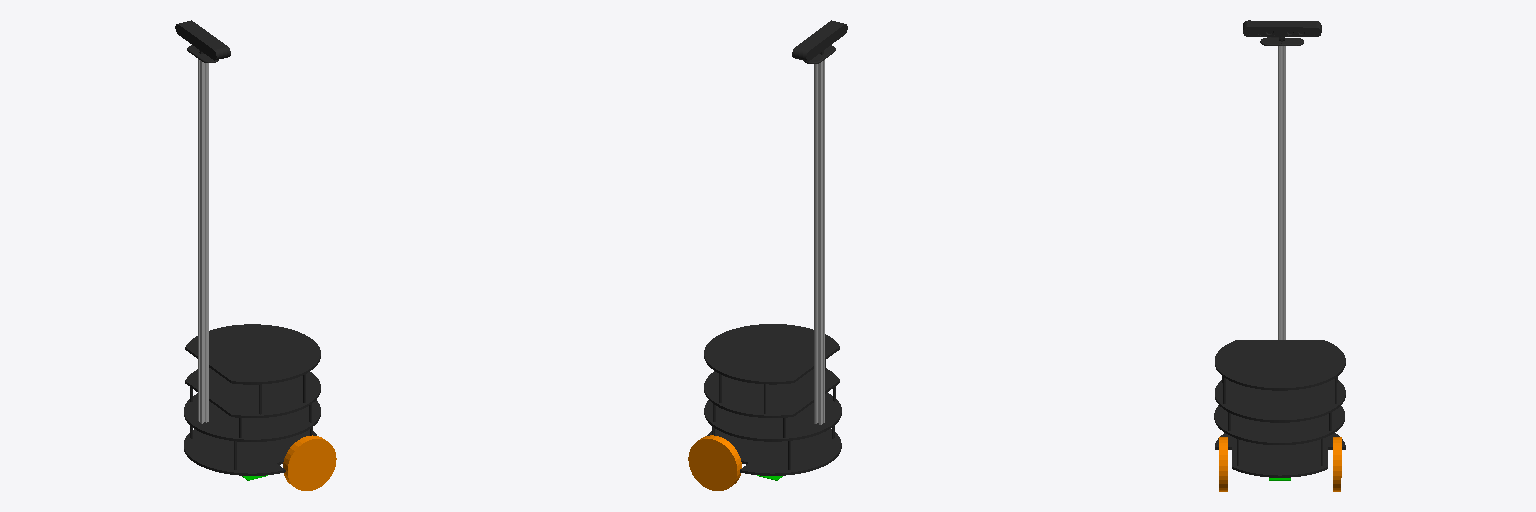
URDF robot description (pi_robot):
<?xml version="1.0" ?>
<!-- =================================================================================== -->
<!-- |    This document was autogenerated by xacro from pi_robot_with_xtion.xacro      | -->
<!-- |    EDITING THIS FILE BY HAND IS NOT RECOMMENDED                                 | -->
<!-- =================================================================================== -->
<robot name="pi_robot">
  <!-- Define a number of dimensions using properties -->
  <!-- The following include files set up definitions of parts of the robot body -->
  <material name="Black">
    <color rgba="0.2 0.2 0.2 1.0"/>
  </material>
  <material name="TransparentBlack">
    <color rgba="0.2 0.2 0.2 0.8"/>
  </material>
  <material name="Orange">
    <color rgba="1.0  0.55 0.0 1.0"/>
  </material>
  <material name="Grey">
    <color rgba="0.7 0.7 0.7 1.0"/>
  </material>
  <material name="Red">
    <color rgba="0.8 0.0 0.0 1.0"/>
  </material>
  <material name="White">
    <color rgba="1.0 1.0 1.0 1.0"/>
  </material>
  <material name="OffWhite">
    <color rgba="0.8 0.8 0.8 1.0"/>
  </material>
  <material name="Blue">
    <color rgba="0.0 0.0 0.8 1.0"/>
  </material>
  <material name="Green">
    <color rgba="0.0 0.8 0.0 1.0"/>
  </material>
  <material name="TransparentGreen">
    <color rgba="0.0 0.8 0.0 0.5"/>
  </material>
  <link name="base_footprint">
    <visual>
      <origin rpy="0 0 0" xyz="0 0 0"/>
      <geometry>
        <box size="0.05 0.05 0.001"/>
      </geometry>
      <material name="TransparentGreen"/>
    </visual>
  </link>
  <joint name="base_joint" type="fixed">
    <origin rpy="0 0 0" xyz="0 0 0.06541"/>
    <parent link="base_footprint"/>
    <child link="base_link"/>
  </joint>
  <joint name="base_l_wheel_joint" type="continuous">
    <axis xyz="0 0 1"/>
    <limit effort="100" velocity="100"/>
    <safety_controller k_velocity="10"/>
    <origin rpy="1.57 0 0" xyz="0.07 0.13 -0.0035"/>
    <parent link="base_link"/>
    <child link="base_l_wheel_link"/>
  </joint>
  <link name="base_l_wheel_link">
    <visual>
      <origin rpy="0 0 0" xyz="0 0 0"/>
      <geometry>
        <cylinder length="0.02032" radius="0.06191"/>
      </geometry>
      <material name="Orange"/>
    </visual>
  </link>
  <joint name="base_r_wheel_joint" type="continuous">
    <axis xyz="0 0 1"/>
    <limit effort="100" velocity="100"/>
    <safety_controller k_velocity="10"/>
    <origin rpy="-1.57 0 0" xyz="0.07 -0.13 -0.0035"/>
    <parent link="base_link"/>
    <child link="base_r_wheel_link"/>
  </joint>
  <link name="base_r_wheel_link">
    <visual>
      <origin rpy="0 0 0" xyz="0 0 0"/>
      <geometry>
        <cylinder length="0.02032" radius="0.06191"/>
      </geometry>
      <material name="Orange"/>
    </visual>
  </link>
  <!-- Now we can start using the macros included above to define the actual robot -->
  <!-- Start with the base and wheels -->
  <link name="base_link">
    <visual>
      <origin rpy="0 0 1.57075" xyz="0 0 0"/>
      <geometry>
        <mesh filename="package://rbx2_urdf_templates/meshes/pi_robot/pi_robot_base.stl" scale="0.0254 0.0254 0.0254"/>
      </geometry>
      <material name="Black"/>
    </visual>
    <collision>
      <origin rpy="0 0 0" xyz="0 0 0.1205"/>
      <geometry>
        <cylinder length="0.241" radius="0.152"/>
      </geometry>
    </collision>
  </link>
  <!-- Add the torso -->
  <joint name="base_torso_joint" type="fixed">
    <origin rpy="0 0 0" xyz="-0.13 0.0 0.088"/>
    <parent link="base_link"/>
    <child link="torso_link"/>
  </joint>
  <link name="torso_link">
    <visual>
      <origin rpy="0 0 0" xyz="0 0 0"/>
      <geometry>
        <mesh filename="package://rbx2_urdf_templates/meshes/pi_robot/t_slot.stl" scale="0.0127 0.0127 0.0127"/>
      </geometry>
      <material name="Grey"/>
    </visual>
    <collision>
      <origin rpy="0 0 0" xyz="0 0 0.4425"/>
      <geometry>
        <box size="0.025 0.025 0.885"/>
      </geometry>
    </collision>
  </link>
  <!-- Add the camera -->
  <joint name="torso_camera_joint" type="fixed">
    <origin rpy="0 0 0" xyz="0.009 0.0045 0.897"/>
    <parent link="torso_link"/>
    <child link="camera_link"/>
  </joint>
  <link name="camera_link">
    <visual>
      <origin rpy="0 0 0" xyz="0 0 0"/>
      <geometry>
        <mesh filename="package://rbx2_urdf_templates/meshes/xtion.stl" scale="0.0254 0.0254 0.0254"/>
      </geometry>
      <material name="Black"/>
    </visual>
    <collision>
      <origin rpy="0 0 0" xyz="0 0 0"/>
      <geometry>
        <box size="0.042 0.181 0.048"/>
      </geometry>
    </collision>
  </link>
  <joint name="camera_depth_joint" type="fixed">
    <origin rpy="0 0 0" xyz="0 0.025 0"/>
    <parent link="camera_link"/>
    <child link="camera_depth_frame"/>
  </joint>
  <link name="camera_depth_frame">
    <inertial>
      <mass value="0.000001"/>
      <origin xyz="0 0 0"/>
      <inertia ixx="0.0001" ixy="0.0" ixz="0.0" iyy="0.0001" iyz="0.0" izz="0.0001"/>
    </inertial>
  </link>
  <joint name="camera_depth_optical_joint" type="fixed">
    <origin rpy="-1.57075 0 -1.57075" xyz="0 0 0"/>
    <parent link="camera_depth_frame"/>
    <child link="camera_depth_optical_frame"/>
  </joint>
  <link name="camera_depth_optical_frame">
    <inertial>
      <mass value="0.000001"/>
      <origin xyz="0 0 0"/>
      <inertia ixx="0.0001" ixy="0.0" ixz="0.0" iyy="0.0001" iyz="0.0" izz="0.0001"/>
    </inertial>
  </link>
  <joint name="camera_rgb_joint" type="fixed">
    <origin rpy="0 0 0" xyz="0 -0.025 0"/>
    <parent link="camera_link"/>
    <child link="camera_rgb_frame"/>
  </joint>
  <link name="camera_rgb_frame">
    <inertial>
      <mass value="0.000001"/>
      <origin xyz="0 0 0"/>
      <inertia ixx="0.0001" ixy="0.0" ixz="0.0" iyy="0.0001" iyz="0.0" izz="0.0001"/>
    </inertial>
  </link>
  <joint name="camera_rgb_optical_joint" type="fixed">
    <origin rpy="-1.57075 0 -1.57075" xyz="0 0 0"/>
    <parent link="camera_rgb_frame"/>
    <child link="camera_rgb_optical_frame"/>
  </joint>
  <link name="camera_rgb_optical_frame">
    <inertial>
      <mass value="0.000001"/>
      <origin xyz="0 0 0"/>
      <inertia ixx="0.0001" ixy="0.0" ixz="0.0" iyy="0.0001" iyz="0.0" izz="0.0001"/>
    </inertial>
  </link>
</robot>

--- Render facts (derived) ---
The picture shows the robot from 3 angles, left to right: view 1: azimuth 30°, elevation 25°; view 2: azimuth 150°, elevation 25°; view 3: azimuth 270°, elevation 25°; orthographic projection.
Model pi_robot with 10 links and 9 joints (2 continuous, 7 fixed), rooted at base_footprint, posed every joint at zero.
Links seen in each view (by area): view 1: base_link, torso_link, base_r_wheel_link, camera_link; view 2: base_link, torso_link, base_l_wheel_link, camera_link; view 3: base_link, torso_link, camera_link.
Boxes of the visible links, bbox=[...] form: base_link: bbox=[184, 324, 320, 475]; torso_link: bbox=[198, 59, 208, 423]; base_r_wheel_link: bbox=[283, 435, 336, 490]; camera_link: bbox=[175, 20, 230, 62]; base_link: bbox=[704, 324, 841, 475]; torso_link: bbox=[814, 60, 824, 424]; base_l_wheel_link: bbox=[688, 435, 741, 490]; camera_link: bbox=[792, 20, 847, 63]; base_link: bbox=[1214, 340, 1345, 477]; torso_link: bbox=[1278, 46, 1285, 339]; camera_link: bbox=[1243, 20, 1321, 45].
Size in the robot's own frame: 0.3 by 0.301 by 1.09 metres.
3 mesh visuals loaded from 3 distinct referenced files (3 binary STL).
